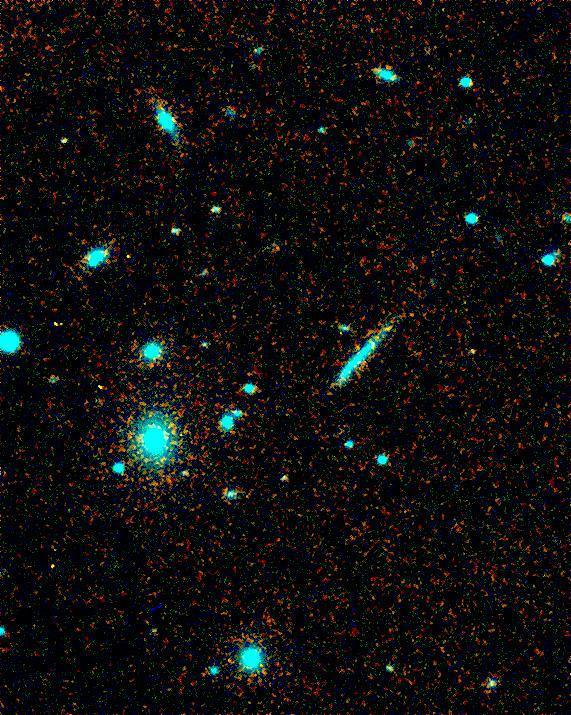star: (337, 332, 367, 362)
